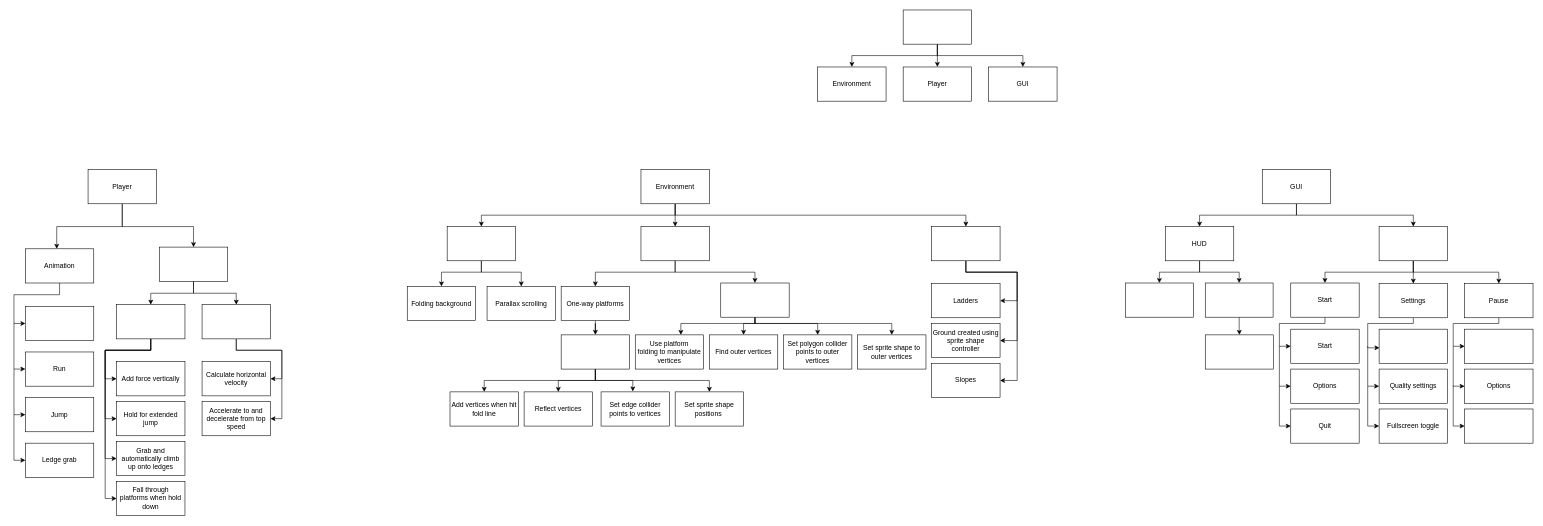
This 1543x526 diagram has some shape labels left out. The centre of each missing label's shape, as x and y in pixels:
"Audio sliders (master, SFX, music)" goes at point (1413, 346).
"Background" goes at point (481, 243).
"Custom Cursor" goes at point (1239, 299).
"Folding boxes" goes at point (754, 299).
"Folding mechanic" goes at point (595, 351).
"Game" goes at point (937, 26).
"Highlight selected corners" goes at point (1159, 299).
"Horizontal" goes at point (235, 321).
"Idle" goes at point (59, 323).
"Movement" goes at point (193, 264).
"Pinch when dragging paper" goes at point (1239, 351).
"Platforms" goes at point (674, 243).
"Quit to main menu" goes at point (1498, 425).
"Resume" goes at point (1498, 346).
"Screens" goes at point (1413, 243).
"Vertical" goes at point (150, 321).
"World" goes at point (965, 243).
